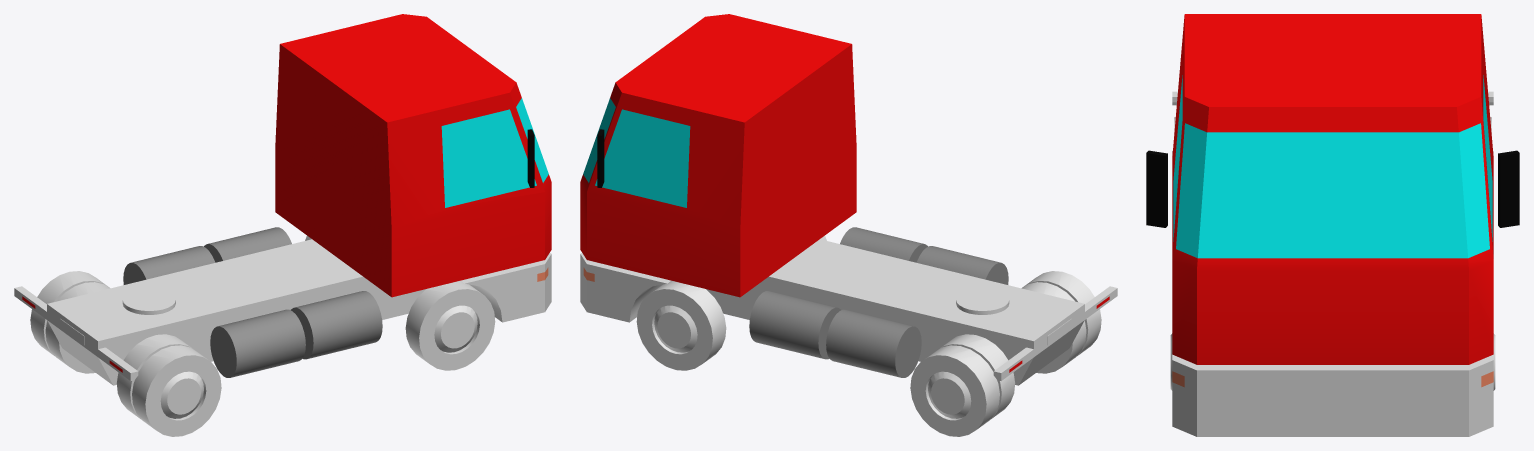
The model's file is tractor.dae.
3 renders of one model, left to right at view 1: azimuth 30°, elevation 25°; view 2: azimuth 150°, elevation 25°; view 3: azimuth 270°, elevation 25°, orthographic. The views are drawn at different scales.
Parts seen in each view (by area): view 1: af40d261-4ab1-4528-8220-fa916d458ff0, a2b0a9e2-46be-419a-add5-8ae511c95e15, ab8db1cd-5c9c-40a9-8dfb-e9569a6a8fc2 (×5), a6c7329a-c9b5-428c-af27-338e6050587a (×4), f6154f5b-0cab-459c-9c7d-14c5da2f8b9c, dd64cd1d-7fb7-49ca-bf35-32363ba686c5 (×2), a5709e32-19a2-4d4d-9e89-c7482f1ae9b6; view 2: af40d261-4ab1-4528-8220-fa916d458ff0, a2b0a9e2-46be-419a-add5-8ae511c95e15, ab8db1cd-5c9c-40a9-8dfb-e9569a6a8fc2 (×5), a6c7329a-c9b5-428c-af27-338e6050587a (×4), ada84216-4056-4317-9ee7-815833169034, dd64cd1d-7fb7-49ca-bf35-32363ba686c5 (×2), a5709e32-19a2-4d4d-9e89-c7482f1ae9b6; view 3: af40d261-4ab1-4528-8220-fa916d458ff0, a5709e32-19a2-4d4d-9e89-c7482f1ae9b6, a2b0a9e2-46be-419a-add5-8ae511c95e15, af3d26f3-f985-41e3-a392-2a9892ed3cc7 (×2), f6154f5b-0cab-459c-9c7d-14c5da2f8b9c, ada84216-4056-4317-9ee7-815833169034, ac70231a-af35-487f-b87e-01e5b901d8ff, ae285080-0b24-4b93-a834-247dc873eb4e.
Boxes of the visible parts, bbox=[...] form: af40d261-4ab1-4528-8220-fa916d458ff0: bbox=[275, 14, 551, 297]; a2b0a9e2-46be-419a-add5-8ae511c95e15: bbox=[18, 239, 551, 385]; ab8db1cd-5c9c-40a9-8dfb-e9569a6a8fc2 (×5): bbox=[30, 271, 495, 436]; a6c7329a-c9b5-428c-af27-338e6050587a (×4): bbox=[123, 227, 382, 377]; f6154f5b-0cab-459c-9c7d-14c5da2f8b9c: bbox=[441, 109, 536, 207]; dd64cd1d-7fb7-49ca-bf35-32363ba686c5 (×2): bbox=[160, 305, 477, 418]; a5709e32-19a2-4d4d-9e89-c7482f1ae9b6: bbox=[516, 98, 548, 182]; af40d261-4ab1-4528-8220-fa916d458ff0: bbox=[580, 14, 856, 297]; a2b0a9e2-46be-419a-add5-8ae511c95e15: bbox=[580, 239, 1113, 385]; ab8db1cd-5c9c-40a9-8dfb-e9569a6a8fc2 (×5): bbox=[636, 271, 1101, 436]; a6c7329a-c9b5-428c-af27-338e6050587a (×4): bbox=[749, 227, 1008, 377]; ada84216-4056-4317-9ee7-815833169034: bbox=[595, 109, 690, 207]; dd64cd1d-7fb7-49ca-bf35-32363ba686c5 (×2): bbox=[654, 305, 971, 418]; a5709e32-19a2-4d4d-9e89-c7482f1ae9b6: bbox=[583, 98, 615, 182]; af40d261-4ab1-4528-8220-fa916d458ff0: bbox=[1172, 14, 1493, 364]; a5709e32-19a2-4d4d-9e89-c7482f1ae9b6: bbox=[1176, 123, 1489, 258]; a2b0a9e2-46be-419a-add5-8ae511c95e15: bbox=[1172, 94, 1493, 436]; af3d26f3-f985-41e3-a392-2a9892ed3cc7 (×2): bbox=[1146, 150, 1519, 227]; f6154f5b-0cab-459c-9c7d-14c5da2f8b9c: bbox=[1173, 75, 1182, 241]; ada84216-4056-4317-9ee7-815833169034: bbox=[1483, 75, 1492, 241]; ac70231a-af35-487f-b87e-01e5b901d8ff: bbox=[1184, 376, 1233, 392]; ae285080-0b24-4b93-a834-247dc873eb4e: bbox=[1432, 376, 1481, 392].
Bounding box in the file's own units: 561 × 305 × 324.
